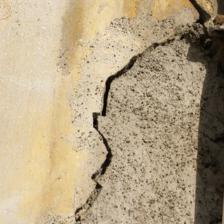Crack: (16, 8, 196, 40), (34, 99, 144, 116)
